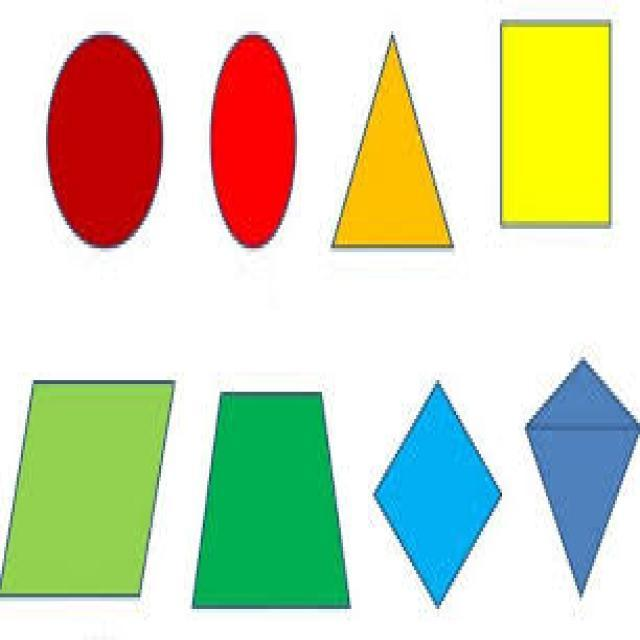BelahKetupat: (368, 351, 506, 625)
Jajar-Genjang: (0, 316, 182, 628)
Layang-Layang: (515, 307, 639, 617)
Lingkaran: (12, 11, 170, 249), (203, 24, 301, 260)
Persegi: (489, 13, 633, 244)
Segitiga: (337, 19, 469, 325)
Trapesium: (184, 360, 366, 640)
